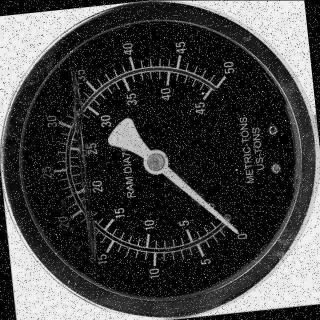gauge: (0, 0, 320, 320), (211, 58, 241, 92), (220, 212, 250, 242), (142, 148, 170, 175), (227, 223, 243, 238)
